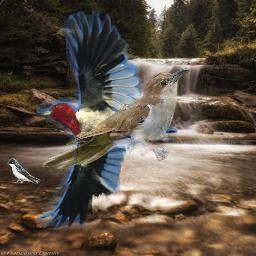Cuckoo: (41, 68, 190, 169)
Swallow: (7, 158, 41, 184)
Woodpecker: (37, 11, 178, 230)
